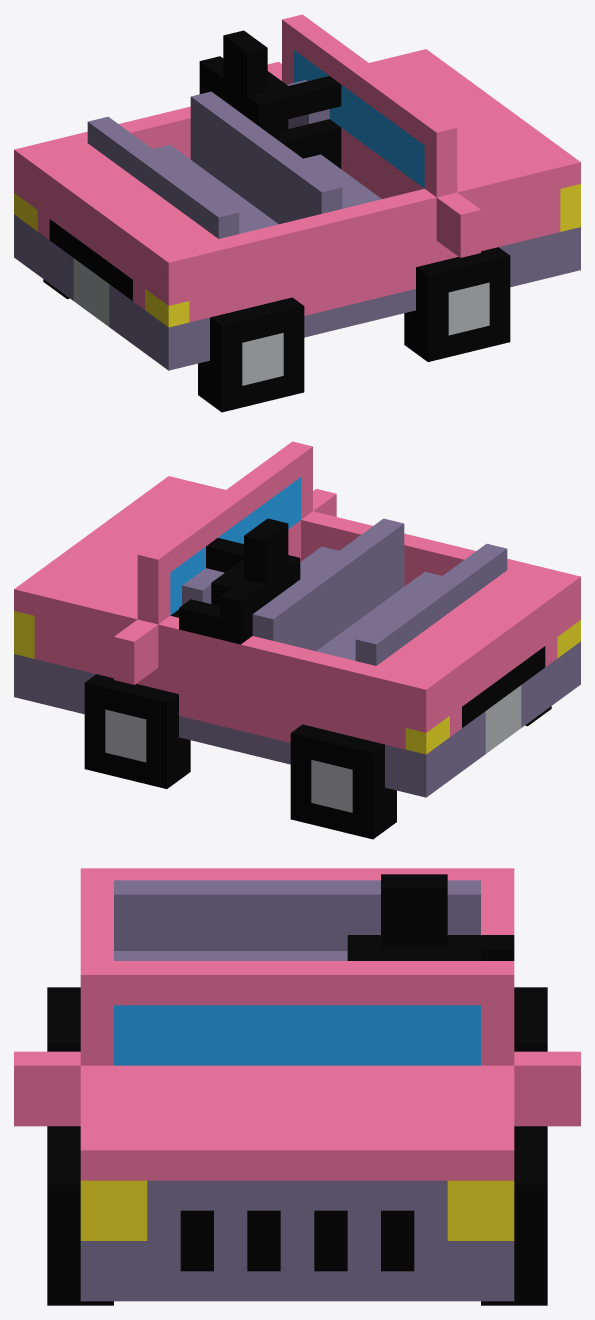
The model's file is convertible_e.obj.
3 views of the same model, one above another, from view 1: azimuth 30°, elevation 25°; view 2: azimuth 150°, elevation 25°; view 3: azimuth 270°, elevation 25° (orthographic). The views are drawn at different scales.
Size of the model in its own units: 2 by 1.1 by 1.7.
1 material, 1 textured.
